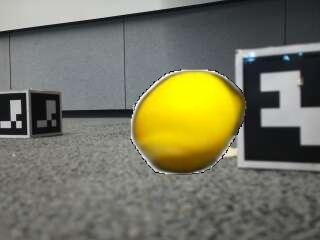lemon: (133, 72, 244, 171)
